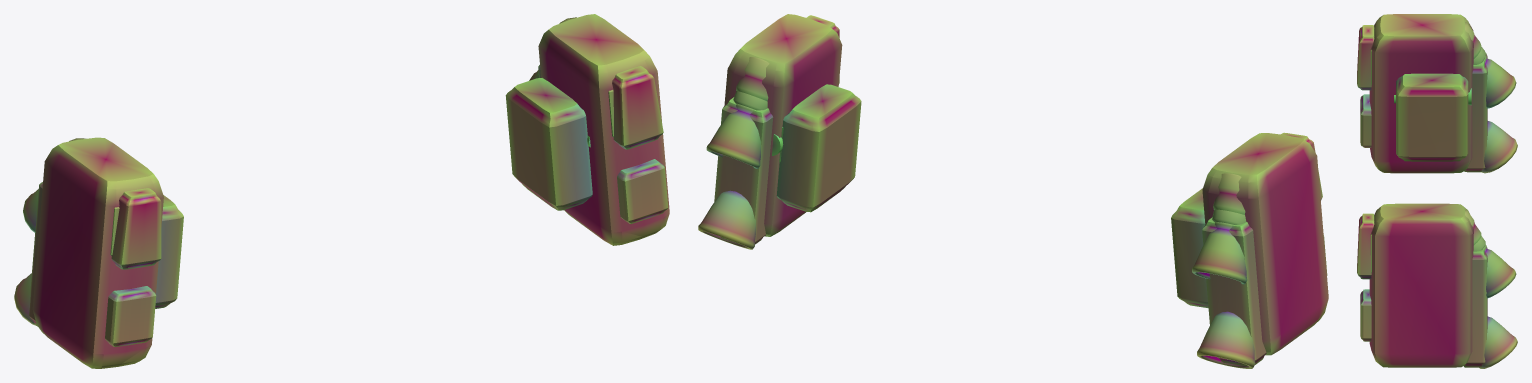
The model's file is llm_gen_leg_thrusters_095_210616.glb.
3 views of the same model, side by side, from view 1: azimuth 30°, elevation 25°; view 2: azimuth 150°, elevation 25°; view 3: azimuth 270°, elevation 25° (orthographic). The views are drawn at different scales.
Visible parts, largest first — view 1: outer_shin_armor_0_wing_white_l, outer_shin_armor_0_wing_white_r, adapter_calf_clamp_r, knee_guard_blade_2_gold_l, knee_guard_blade_2_gold_r, lower_shin_bumper_4_crimson_gloss_l, lower_shin_bumper_4_crimson_gloss_r, adapter_calf_clamp_l, rear_thruster_manifold_dark_5_adapter_dark_l, rear_surge_bell_bot_7_vernier_bell_vernier_l; view 2: outer_shin_armor_0_wing_white_l, outer_shin_armor_0_wing_white_r, adapter_calf_clamp_r, rear_thruster_manifold_dark_5_adapter_dark_l, rear_thruster_manifold_dark_5_adapter_dark_r, adapter_calf_clamp_l, rear_surge_bell_bot_7_vernier_bell_vernier_l, rear_surge_bell_bot_7_vernier_bell_vernier_r, rear_surge_bell_top_6_vernier_bell_vernier_r, rear_surge_bell_top_6_vernier_bell_vernier_l, rear_surge_bell_top_6_vernier_bell_gimbal_collar_dark_r, rear_surge_bell_top_6_vernier_bell_gimbal_collar_dark_l; view 3: outer_shin_armor_0_wing_white_r, outer_shin_armor_0_wing_white_l, adapter_calf_clamp_l, rear_thruster_manifold_dark_5_adapter_dark_r, rear_thruster_manifold_dark_5_adapter_dark_l, rear_surge_bell_bot_7_vernier_bell_vernier_l, rear_surge_bell_bot_7_vernier_bell_vernier_r, rear_surge_bell_top_6_vernier_bell_vernier_l, rear_surge_bell_top_6_vernier_bell_vernier_r, knee_guard_blade_2_gold_l, knee_guard_blade_2_gold_r, lower_shin_bumper_4_crimson_gloss_l (+3 smaller).
Part boxes in pixels (<box>): outer_shin_armor_0_wing_white_l: <box>32,137,163,368</box>; outer_shin_armor_0_wing_white_r: <box>538,14,669,245</box>; adapter_calf_clamp_r: <box>505,78,592,210</box>; knee_guard_blade_2_gold_l: <box>111,188,161,269</box>; knee_guard_blade_2_gold_r: <box>612,66,663,149</box>; lower_shin_bumper_4_crimson_gloss_l: <box>105,286,156,346</box>; lower_shin_bumper_4_crimson_gloss_r: <box>617,159,668,223</box>; adapter_calf_clamp_l: <box>155,195,183,308</box>; rear_thruster_manifold_dark_5_adapter_dark_l: <box>29,182,42,326</box>; rear_surge_bell_bot_7_vernier_bell_vernier_l: <box>14,273,35,325</box>; outer_shin_armor_0_wing_white_l: <box>1202,133,1328,355</box>; outer_shin_armor_0_wing_white_r: <box>724,14,842,236</box>; adapter_calf_clamp_r: <box>776,84,861,212</box>; rear_thruster_manifold_dark_5_adapter_dark_l: <box>1202,217,1266,366</box>; rear_thruster_manifold_dark_5_adapter_dark_r: <box>714,97,773,244</box>; adapter_calf_clamp_l: <box>1171,188,1208,308</box>; rear_surge_bell_bot_7_vernier_bell_vernier_l: <box>1197,311,1255,368</box>; rear_surge_bell_bot_7_vernier_bell_vernier_r: <box>698,190,755,249</box>; rear_surge_bell_top_6_vernier_bell_vernier_r: <box>706,103,760,168</box>; rear_surge_bell_top_6_vernier_bell_vernier_l: <box>1192,222,1247,284</box>; rear_surge_bell_top_6_vernier_bell_gimbal_collar_dark_r: <box>736,57,769,101</box>; rear_surge_bell_top_6_vernier_bell_gimbal_collar_dark_l: <box>1213,173,1245,214</box>; outer_shin_armor_0_wing_white_r: <box>1369,203,1473,367</box>; outer_shin_armor_0_wing_white_l: <box>1369,14,1473,173</box>; adapter_calf_clamp_l: <box>1396,73,1468,161</box>; rear_thruster_manifold_dark_5_adapter_dark_r: <box>1463,247,1487,367</box>; rear_thruster_manifold_dark_5_adapter_dark_l: <box>1464,53,1487,172</box>; rear_surge_bell_bot_7_vernier_bell_vernier_l: <box>1481,121,1517,173</box>; rear_surge_bell_bot_7_vernier_bell_vernier_r: <box>1479,316,1517,368</box>; rear_surge_bell_top_6_vernier_bell_vernier_l: <box>1483,55,1516,108</box>; rear_surge_bell_top_6_vernier_bell_vernier_r: <box>1483,244,1516,298</box>; knee_guard_blade_2_gold_l: <box>1357,25,1374,90</box>; knee_guard_blade_2_gold_r: <box>1357,213,1374,279</box>; lower_shin_bumper_4_crimson_gloss_l: <box>1360,94,1371,147</box>.
Bounding box in the file's own units: 79.12 × 25.32 × 24.4.
